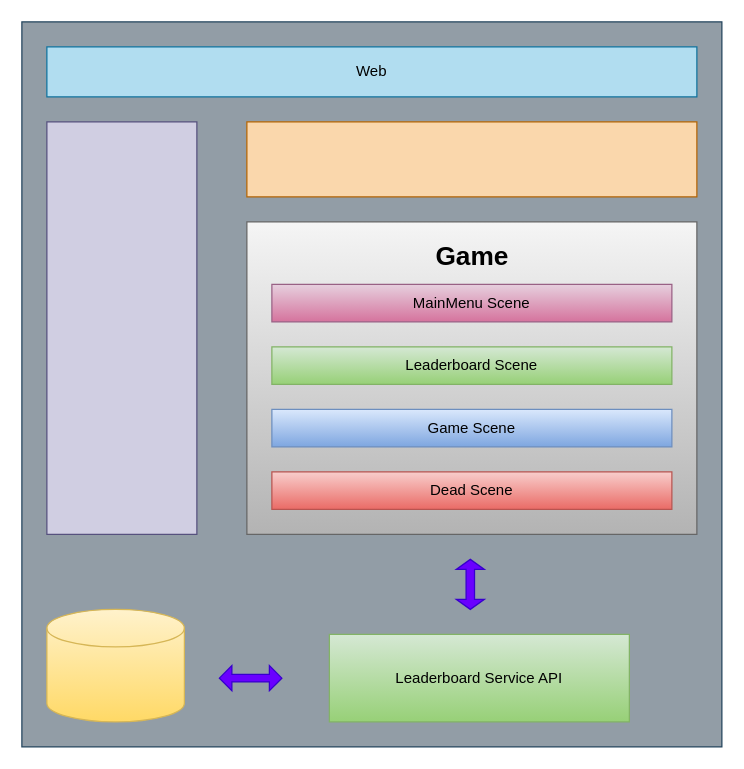
Some shapes in this 744 by 769 pixel diagram are drawn without their labels. The shapes that lost their labels are listed below. From the top down, each one's centre as x and y in pixels, then its label:
point 471,159: HTML, JavaScript, CSS
point 121,327: Web Design Standards
point 115,665: High Scores Database
